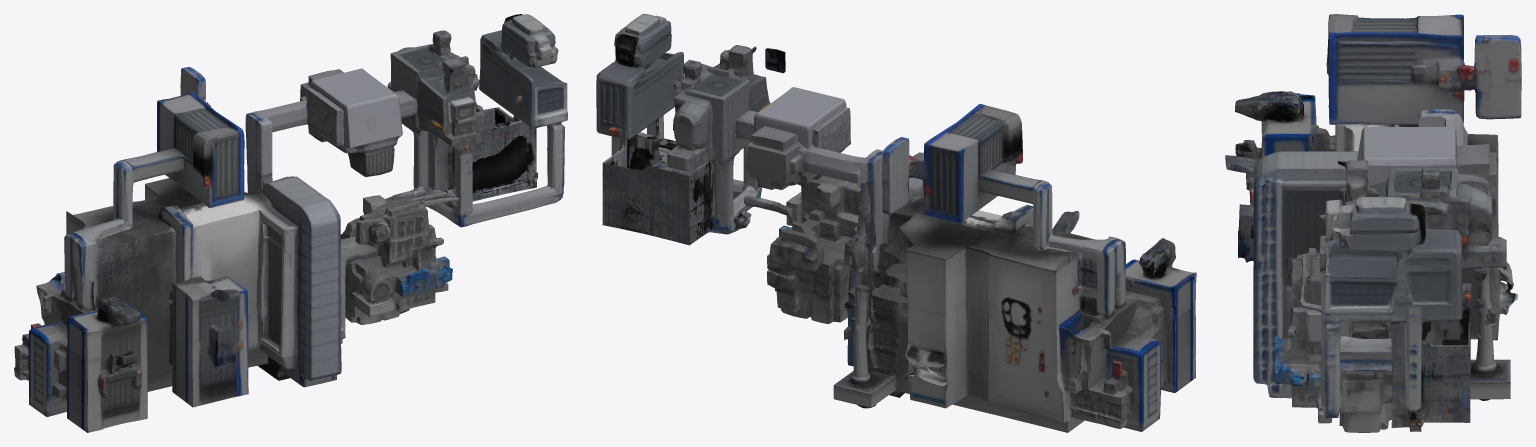
Rendered from pipeline.glb.
3 views of the same model, side by side, from view 1: azimuth 30°, elevation 25°; view 2: azimuth 150°, elevation 25°; view 3: azimuth 270°, elevation 25° (orthographic). The views are drawn at different scales.
Parts seen in each view (by area): view 1: world; view 2: world; view 3: world.
Boxes of the visible parts, bbox=[...] form: world: bbox=[14, 14, 567, 432]; world: bbox=[596, 14, 1196, 432]; world: bbox=[1225, 14, 1521, 432].
Bounding box in the file's own units: 0.9991 × 0.5208 × 0.3922.
1 material, 1 textured.
